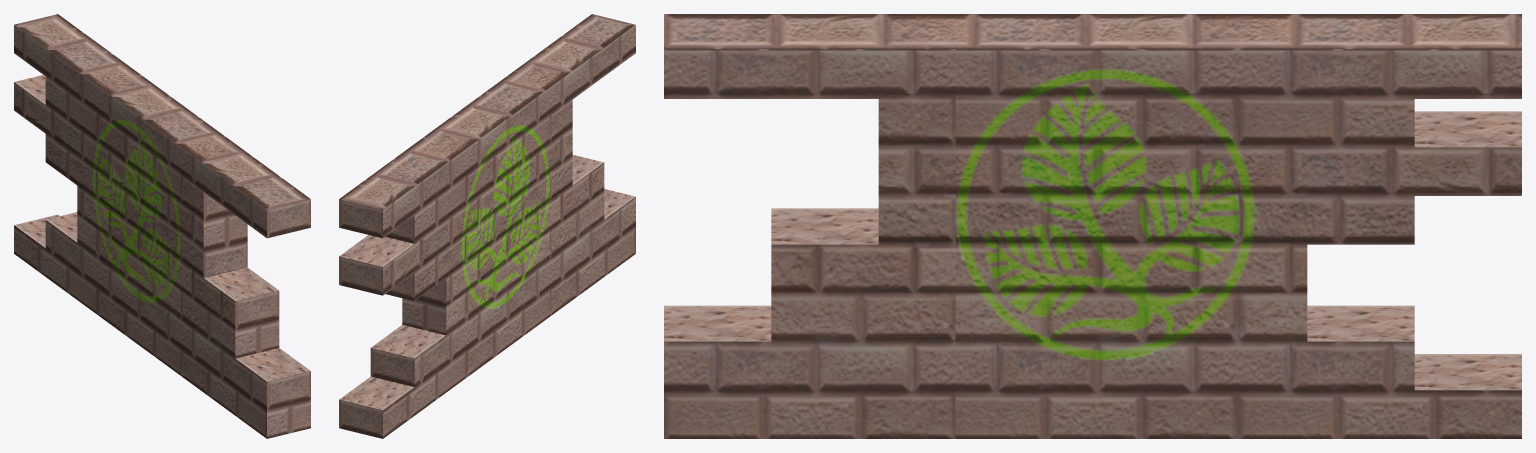
The model's file is slider.dae.
3 views of the same model, side by side, from view 1: azimuth 30°, elevation 25°; view 2: azimuth 150°, elevation 25°; view 3: azimuth 270°, elevation 25° (orthographic). The views are drawn at different scales.
Visible parts, largest first — view 1: slider; view 2: slider; view 3: slider.
Boxes of the visible parts, x1,y1,x2,y2 form: slider: [14, 14, 310, 438]; slider: [339, 14, 635, 438]; slider: [664, 14, 1521, 438].
Size of the model in its own units: 0.625 by 3.13 by 6.25.
Materials: 1 (1 with a texture image).
